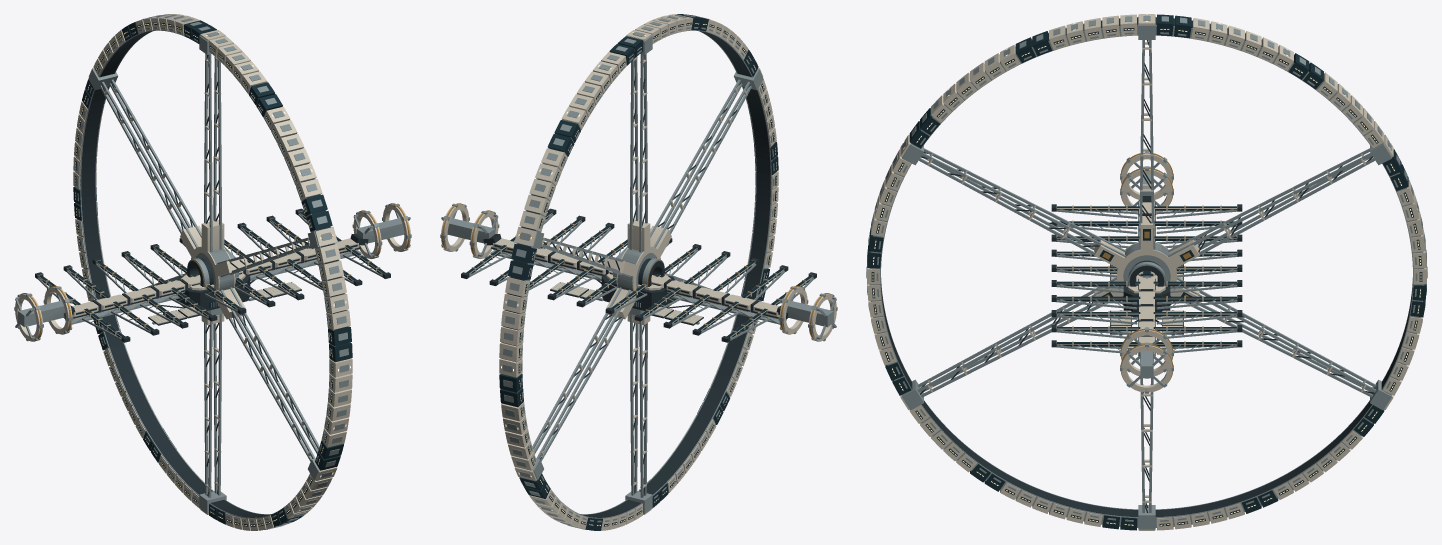
The model's file is station-exterior-lod1.glb.
3 views of the same model, side by side, from view 1: azimuth 30°, elevation 25°; view 2: azimuth 150°, elevation 25°; view 3: azimuth 270°, elevation 25° (orthographic). The views are drawn at different scales.
Parts seen in each view (by area): view 1: RingTemplate_ExteriorSteel Geometry, RingTemplate_ExteriorIvory Geometry, RingTemplate_ExteriorDark Geometry, FixedStructure_ExteriorIvory Geometry, FixedStructure_ExteriorSteel Geometry, RingTemplate_ExteriorPetrol Geometry, FixedStructure_ExteriorPetrol Geometry, FixedStructure_ExteriorDark Geometry, FixedStructure_ExteriorOchre Geometry, RingTemplate_Detail_ExteriorWindow Geometry; view 2: RingTemplate_ExteriorSteel Geometry, RingTemplate_ExteriorIvory Geometry, RingTemplate_ExteriorDark Geometry, FixedStructure_ExteriorIvory Geometry, FixedStructure_ExteriorSteel Geometry, RingTemplate_ExteriorPetrol Geometry, FixedStructure_ExteriorPetrol Geometry, FixedStructure_ExteriorDark Geometry, FixedStructure_ExteriorOchre Geometry, RingTemplate_Detail_ExteriorWindow Geometry; view 3: RingTemplate_ExteriorSteel Geometry, RingTemplate_ExteriorIvory Geometry, RingTemplate_ExteriorDark Geometry, FixedStructure_ExteriorSteel Geometry, FixedStructure_ExteriorIvory Geometry, FixedStructure_ExteriorPetrol Geometry, RingTemplate_ExteriorPetrol Geometry, FixedStructure_ExteriorDark Geometry, RingTemplate_Detail_ExteriorWindow Geometry, FixedStructure_ExteriorOchre Geometry.
Boxes of the visible parts, x1=… form: RingTemplate_ExteriorSteel Geometry: x1=75, y1=14, x2=350, y2=529; RingTemplate_ExteriorIvory Geometry: x1=73, y1=14, x2=352, y2=530; RingTemplate_ExteriorDark Geometry: x1=75, y1=22, x2=349, y2=526; FixedStructure_ExteriorIvory Geometry: x1=15, y1=203, x2=410, y2=341; FixedStructure_ExteriorSteel Geometry: x1=14, y1=203, x2=411, y2=341; RingTemplate_ExteriorPetrol Geometry: x1=73, y1=20, x2=352, y2=526; FixedStructure_ExteriorPetrol Geometry: x1=39, y1=211, x2=385, y2=337; FixedStructure_ExteriorDark Geometry: x1=35, y1=208, x2=390, y2=342; FixedStructure_ExteriorOchre Geometry: x1=20, y1=203, x2=409, y2=341; RingTemplate_Detail_ExteriorWindow Geometry: x1=75, y1=23, x2=332, y2=525; RingTemplate_ExteriorSteel Geometry: x1=501, y1=14, x2=776, y2=529; RingTemplate_ExteriorIvory Geometry: x1=499, y1=14, x2=778, y2=530; RingTemplate_ExteriorDark Geometry: x1=502, y1=22, x2=776, y2=526; FixedStructure_ExteriorIvory Geometry: x1=441, y1=203, x2=836, y2=341; FixedStructure_ExteriorSteel Geometry: x1=440, y1=203, x2=837, y2=341; RingTemplate_ExteriorPetrol Geometry: x1=499, y1=14, x2=778, y2=530; FixedStructure_ExteriorPetrol Geometry: x1=466, y1=211, x2=812, y2=337; FixedStructure_ExteriorDark Geometry: x1=461, y1=208, x2=816, y2=342; FixedStructure_ExteriorOchre Geometry: x1=442, y1=203, x2=831, y2=341; RingTemplate_Detail_ExteriorWindow Geometry: x1=519, y1=23, x2=776, y2=525; RingTemplate_ExteriorSteel Geometry: x1=866, y1=15, x2=1427, y2=529; RingTemplate_ExteriorIvory Geometry: x1=867, y1=14, x2=1426, y2=530; RingTemplate_ExteriorDark Geometry: x1=871, y1=17, x2=1422, y2=526; FixedStructure_ExteriorSteel Geometry: x1=1055, y1=151, x2=1238, y2=393; FixedStructure_ExteriorIvory Geometry: x1=1056, y1=152, x2=1237, y2=392; FixedStructure_ExteriorPetrol Geometry: x1=1056, y1=203, x2=1237, y2=346; RingTemplate_ExteriorPetrol Geometry: x1=867, y1=14, x2=1426, y2=530; FixedStructure_ExteriorDark Geometry: x1=1051, y1=196, x2=1242, y2=358; RingTemplate_Detail_ExteriorWindow Geometry: x1=872, y1=29, x2=1421, y2=525; FixedStructure_ExteriorOchre Geometry: x1=1072, y1=152, x2=1221, y2=383.
Size of the model in its own units: 2514 by 2988 by 2988.
